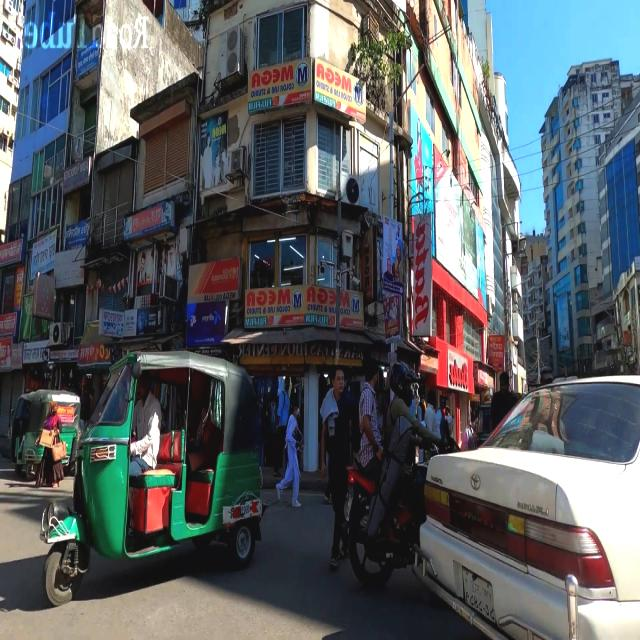white: (414, 355, 640, 640)
